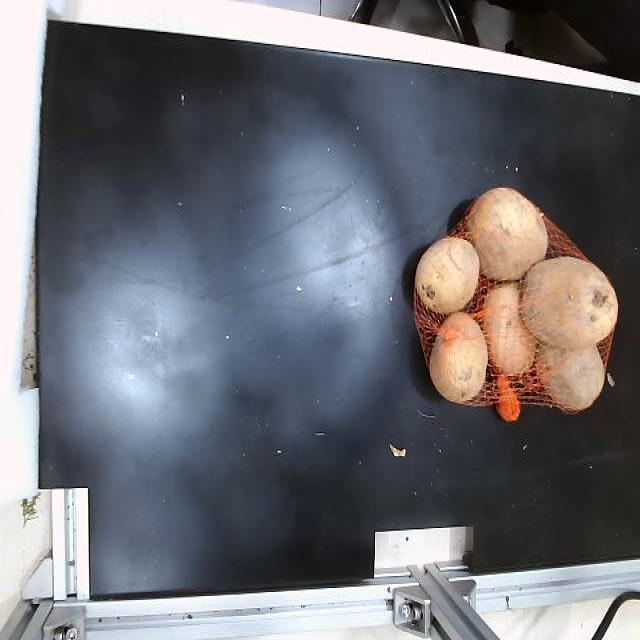potato: (524, 257, 618, 349), (468, 188, 548, 281), (429, 312, 488, 402), (482, 283, 536, 376), (415, 238, 478, 314), (536, 346, 605, 411)
